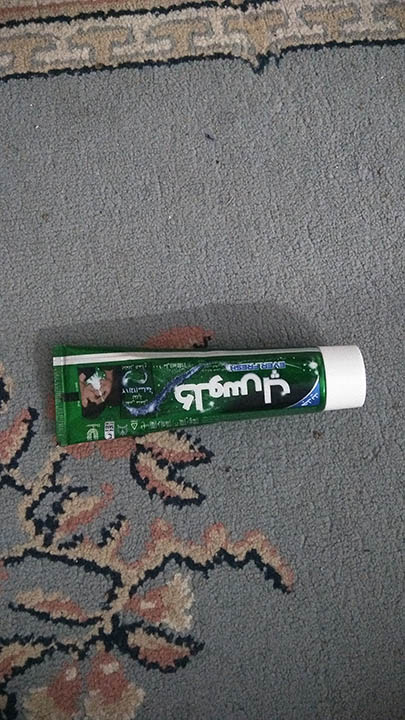Toothpaste-Closeup 3.04$: (48, 343, 376, 428)
